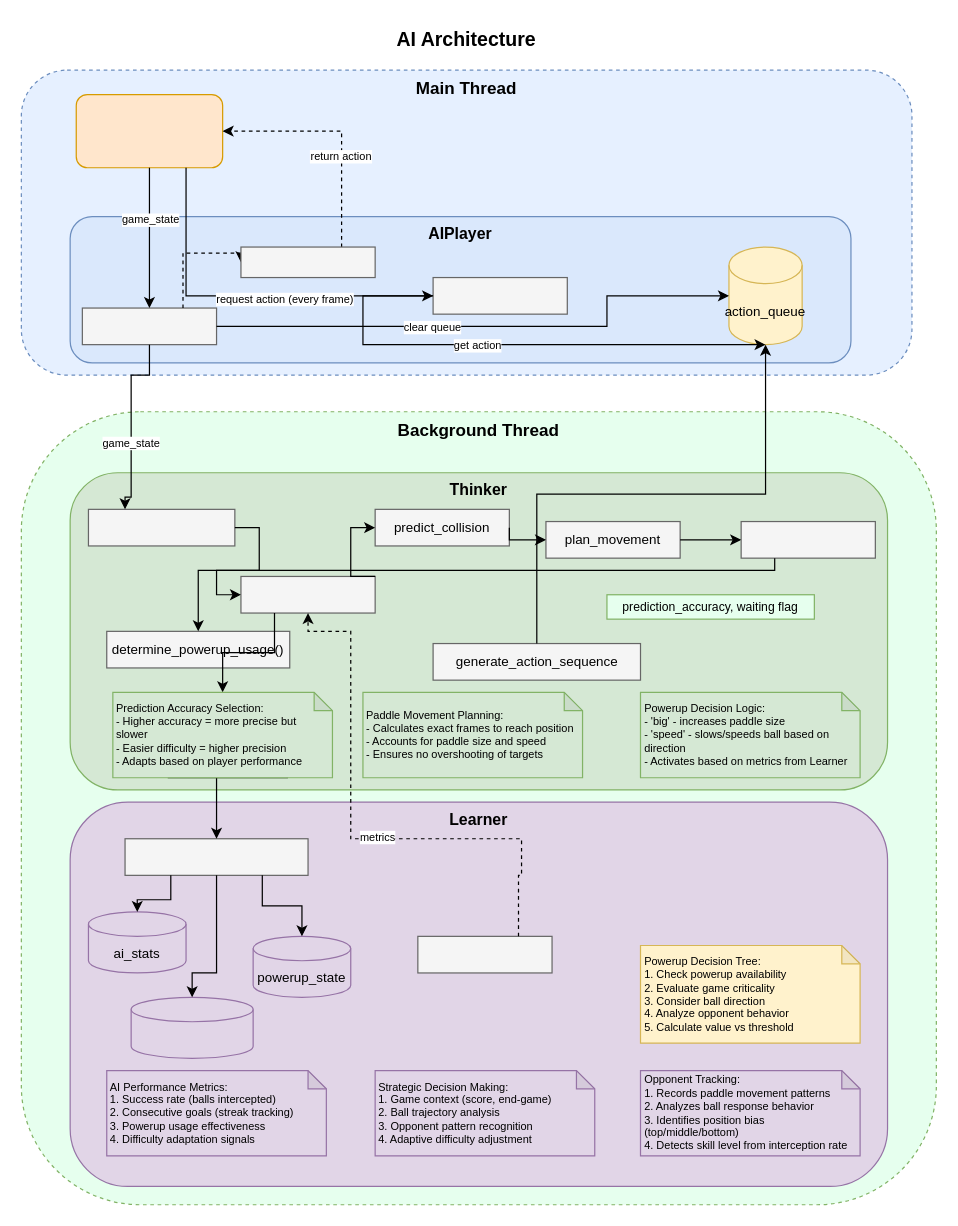
The diagram is 958 pixels wide and 1226 high, and some of its shapes have lost their labels. The centre of each missing label's shape, as x and y in pixels:
action(): (499,295)
adapt_difficulty(): (307,262)
compute_loop: (307,594)
Game Loop: (149,130)
get_metrics: (484,954)
opponent_tracking: (191,1027)
plan_actions: (807,539)
think(game_state): (161,527)
update(game_state): (149,326)
update_with_game_state: (216,856)
